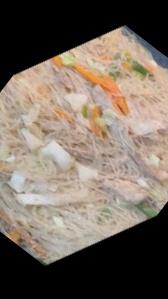pancit bihon: (0, 23, 167, 266)
